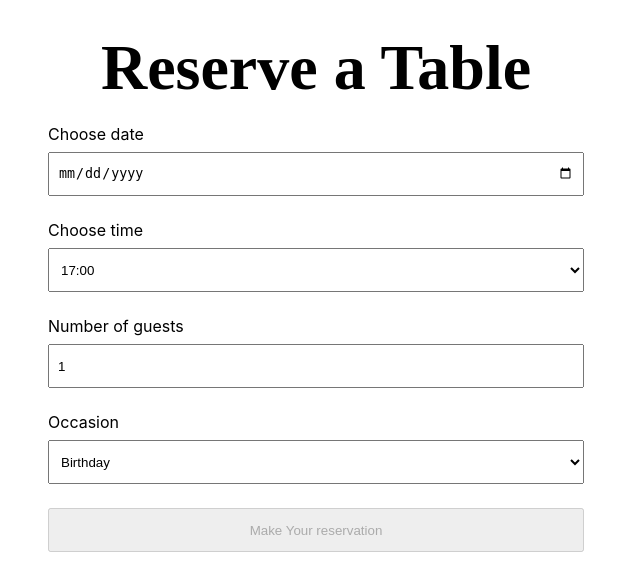
it: Confirmation Page is populated
Type "2049-12-12" into the date field labelled "Choose date". click: (316, 174)
box: [48,152,584,196]
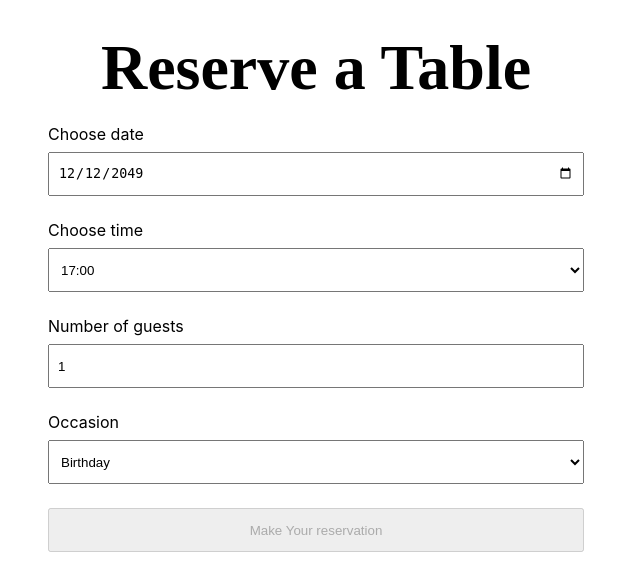
Select "23:00" in the dropdown labelled "Choose time". click: (316, 270)
box: [48,248,584,292]
Type "2" into the number field labelled "Number of guests". click: (316, 366)
box: [48,344,584,388]
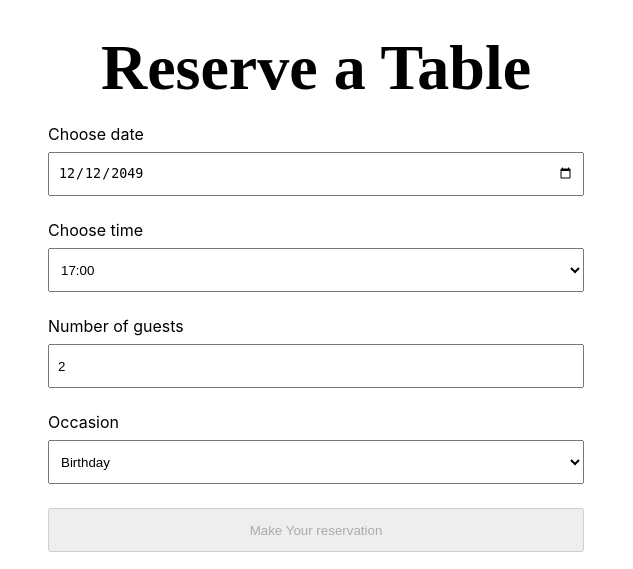
Select "Anniversary" in the dropdown labelled "Occasion". click: (316, 462)
box: [48,440,584,484]
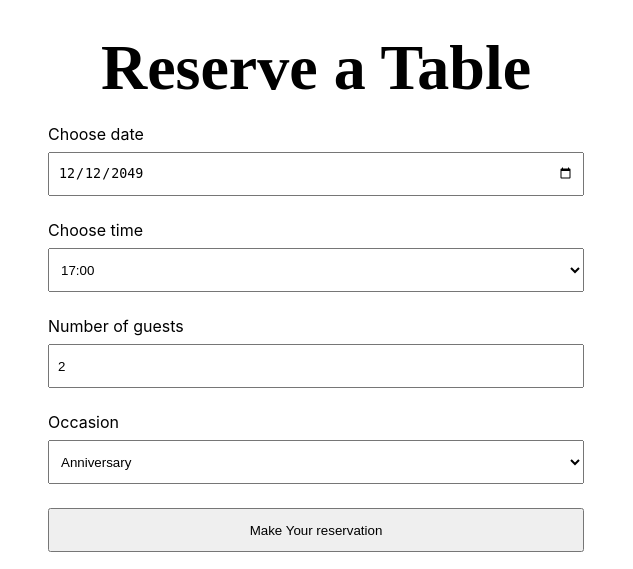
Click the button "Make Your reservation". click: click(316, 530)
box: [48,508,584,552]
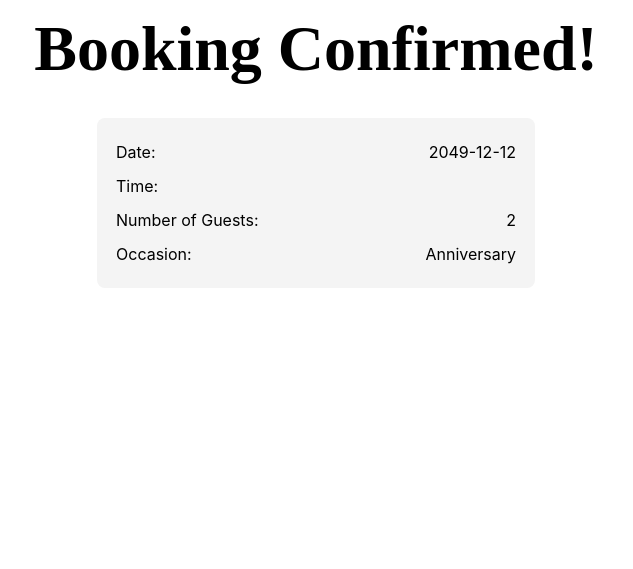
expect the heading "Booking Confirmed!" is shown: met, box [16,12,616,86]
